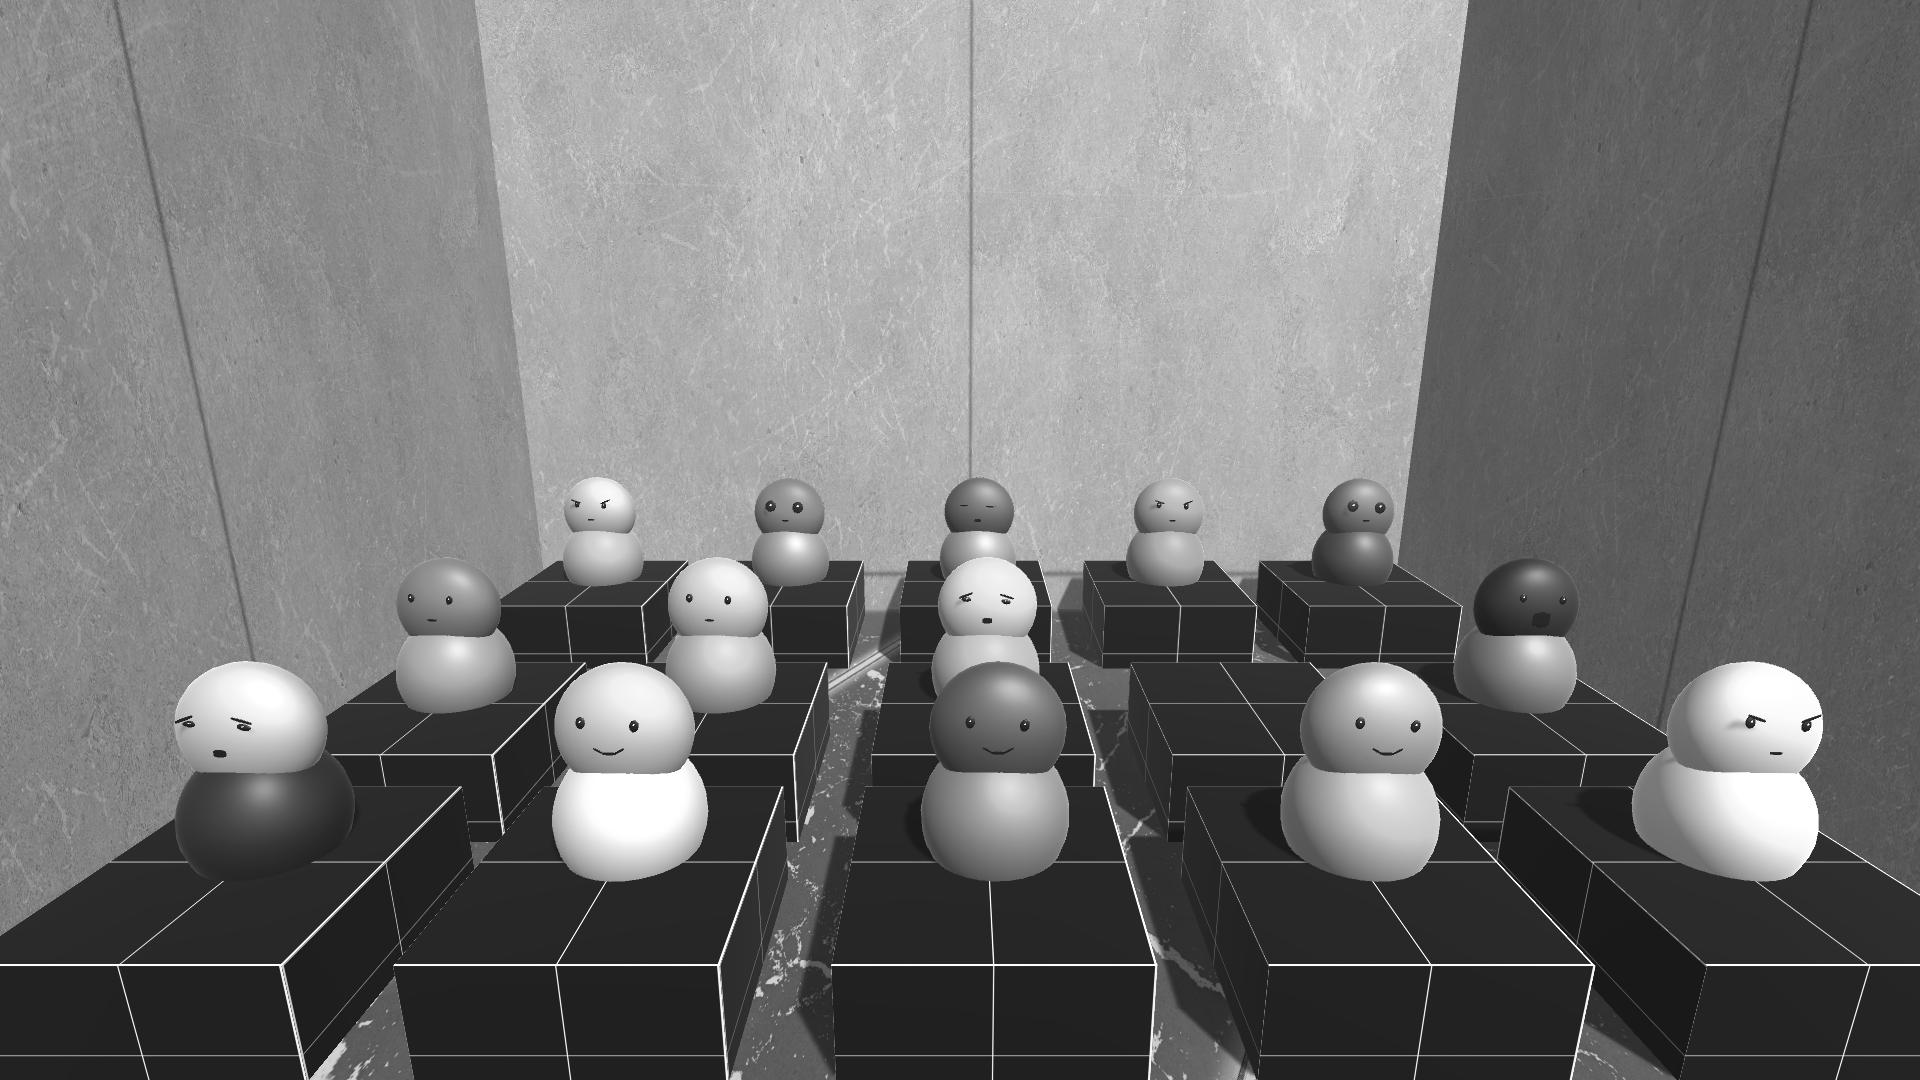blob_atento: (1313, 471, 1396, 593), (746, 473, 825, 596)
blob_dormindo: (939, 477, 1021, 587)
blob_entediado: (174, 661, 363, 869), (934, 551, 1050, 720)
blob_feliz: (1283, 657, 1444, 884), (546, 659, 711, 880), (916, 661, 1069, 887)
blob_normal: (661, 550, 785, 717), (393, 560, 514, 716)
blob_raiva: (1621, 653, 1829, 884), (1120, 477, 1209, 585), (553, 479, 634, 589)
blob_surpreso: (1447, 550, 1577, 720)
